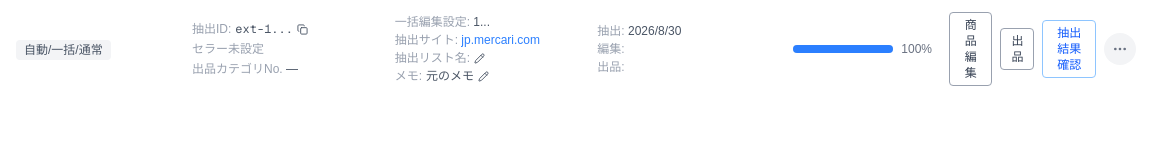
Test: ExtractionRow: メモの編集 › Escapeキーで編集をキャンセルすると保存されない
The width and height of the screenshot is (1152, 160).
Click the button named "メモを編集".
click(484, 76)  # box [478,70,489,82]
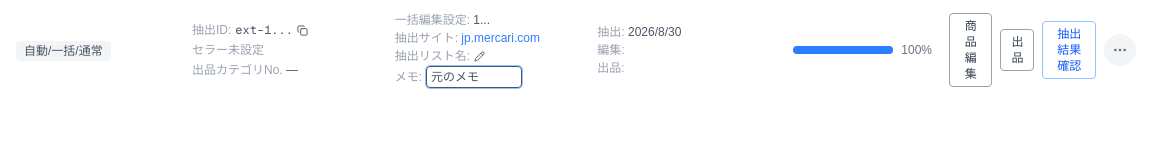
Replace the text in the field with "変更中" at (474, 77), box [426,66,522,88]
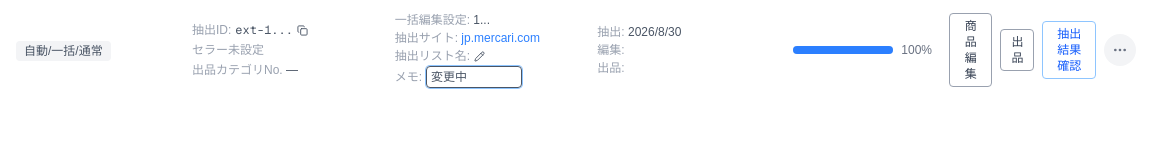
Press Escape
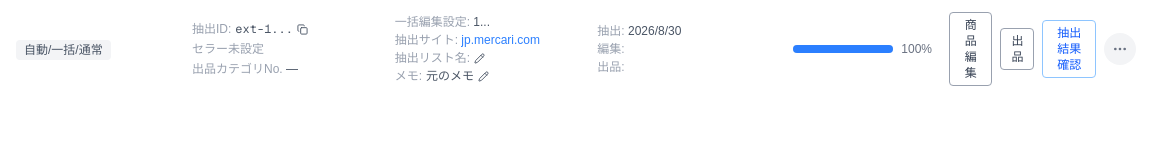
Result: the text "元のメモ" is shown at [426,68,474,84]
